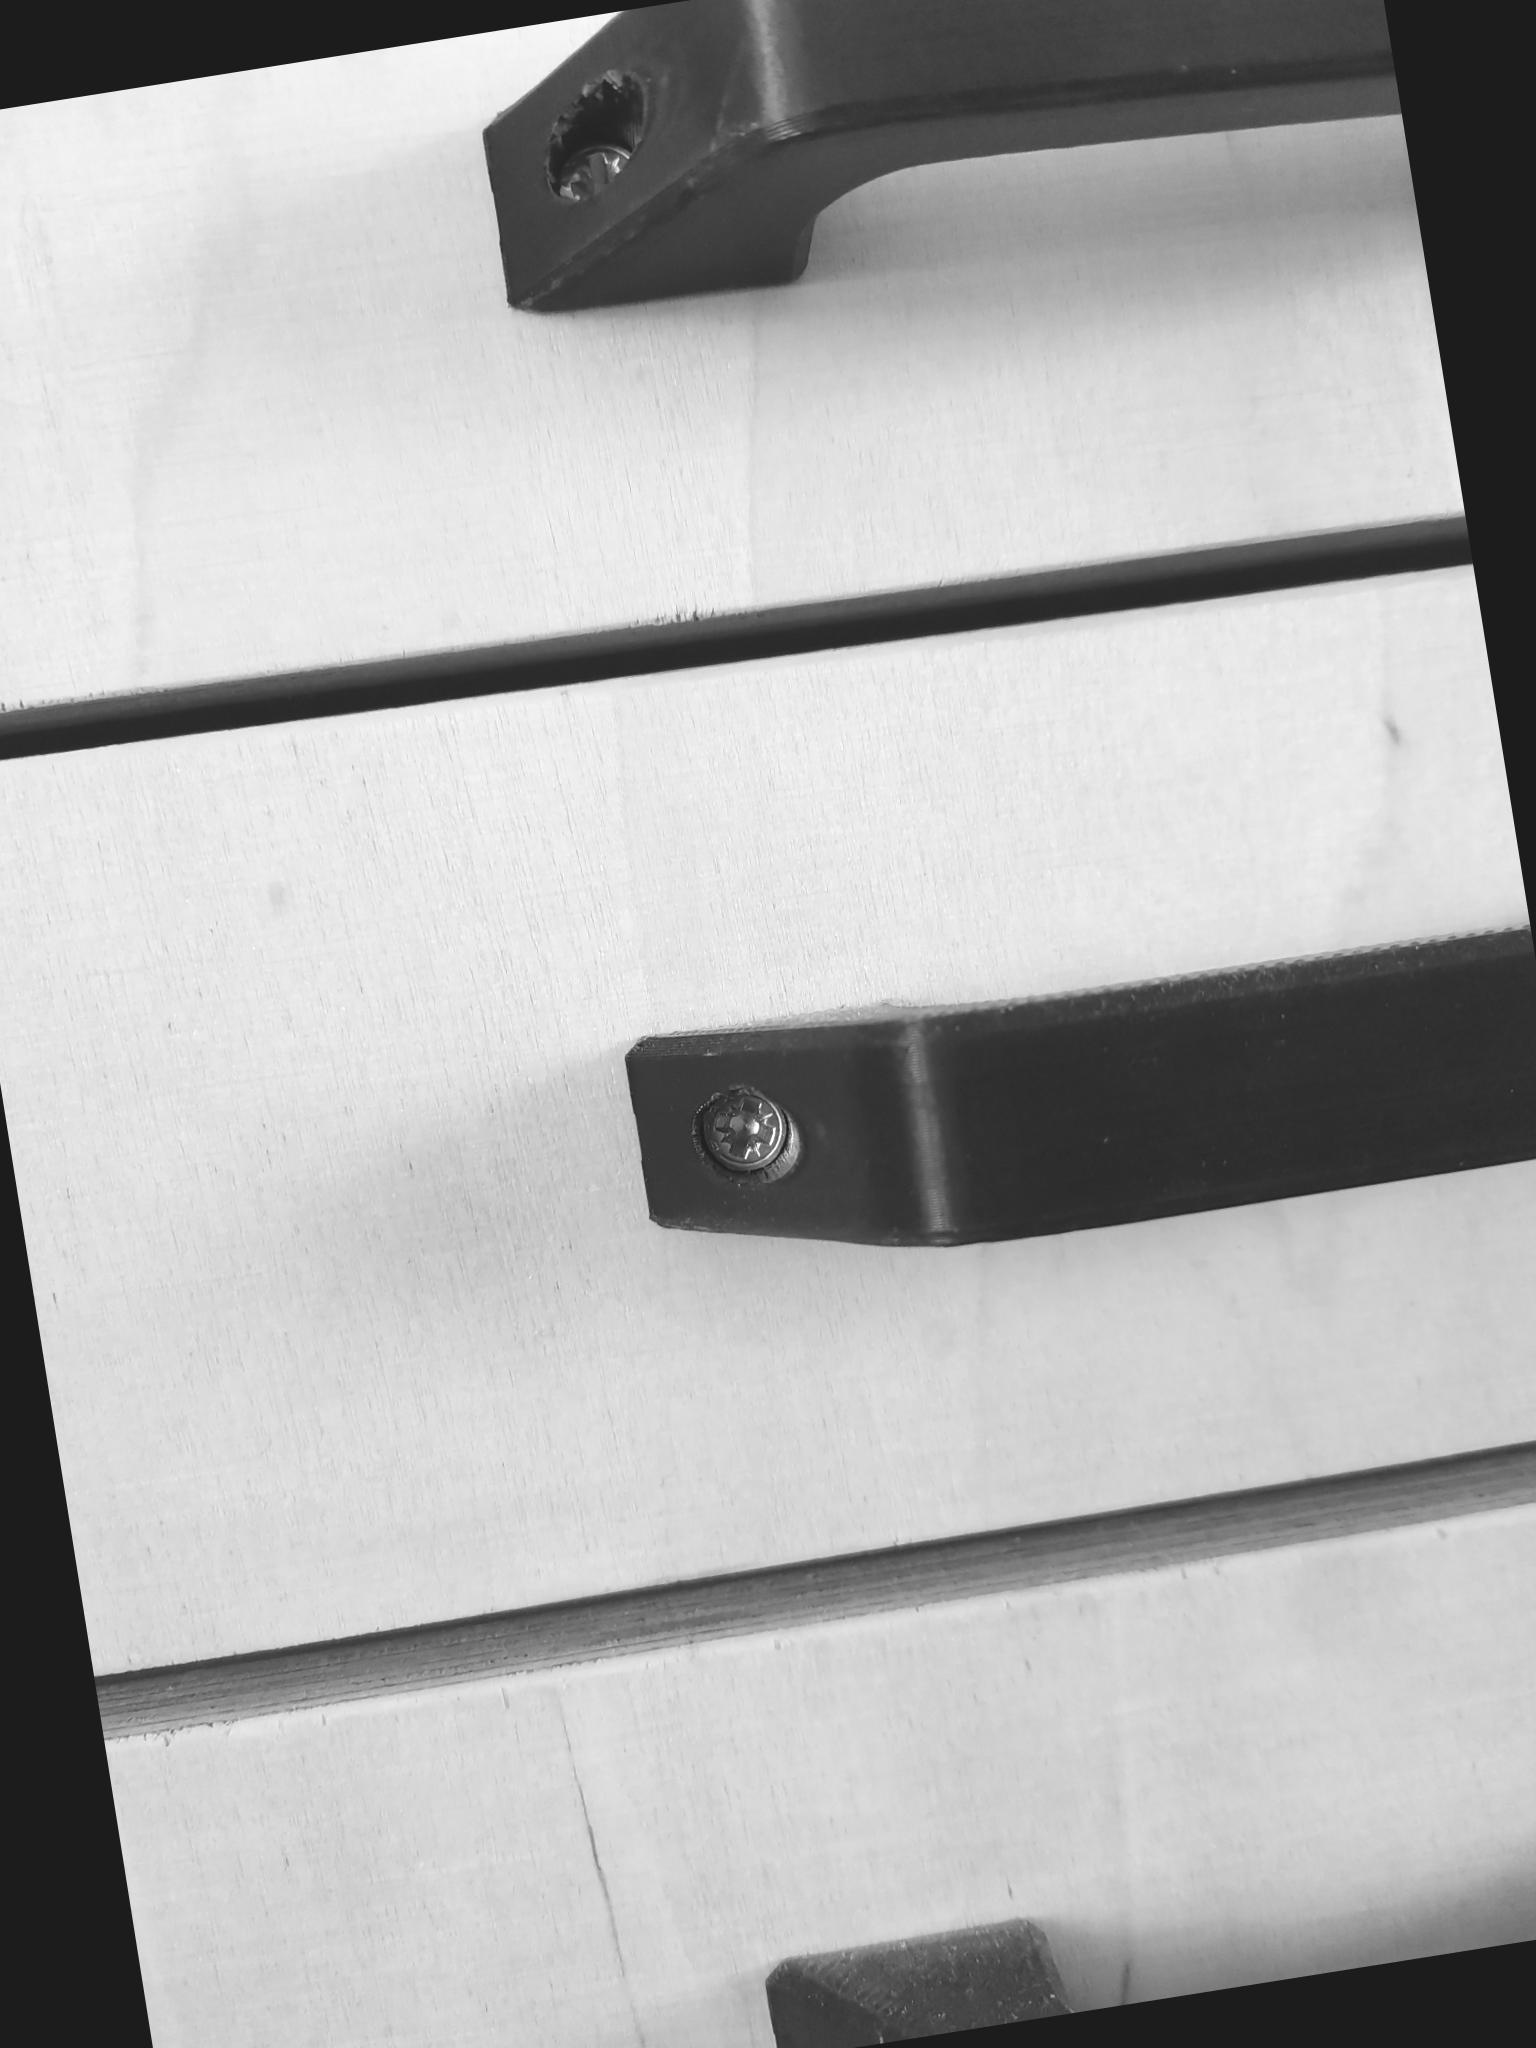screw: (671, 1072, 799, 1195)
